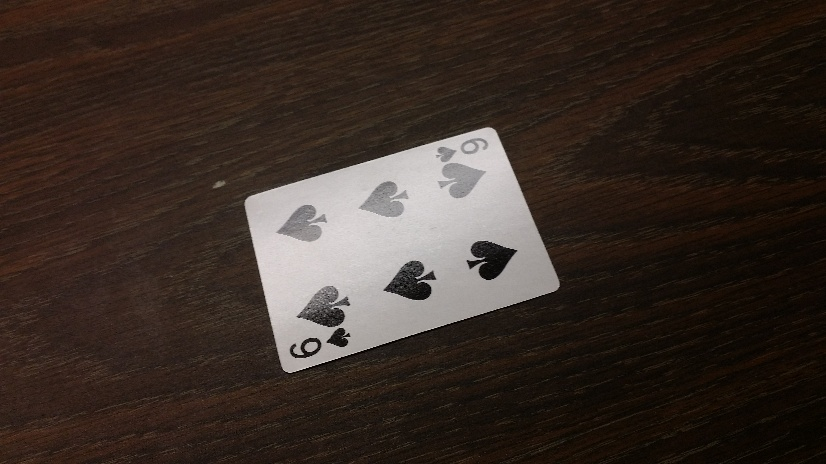S6: (284, 327, 353, 359), (434, 137, 491, 165)
